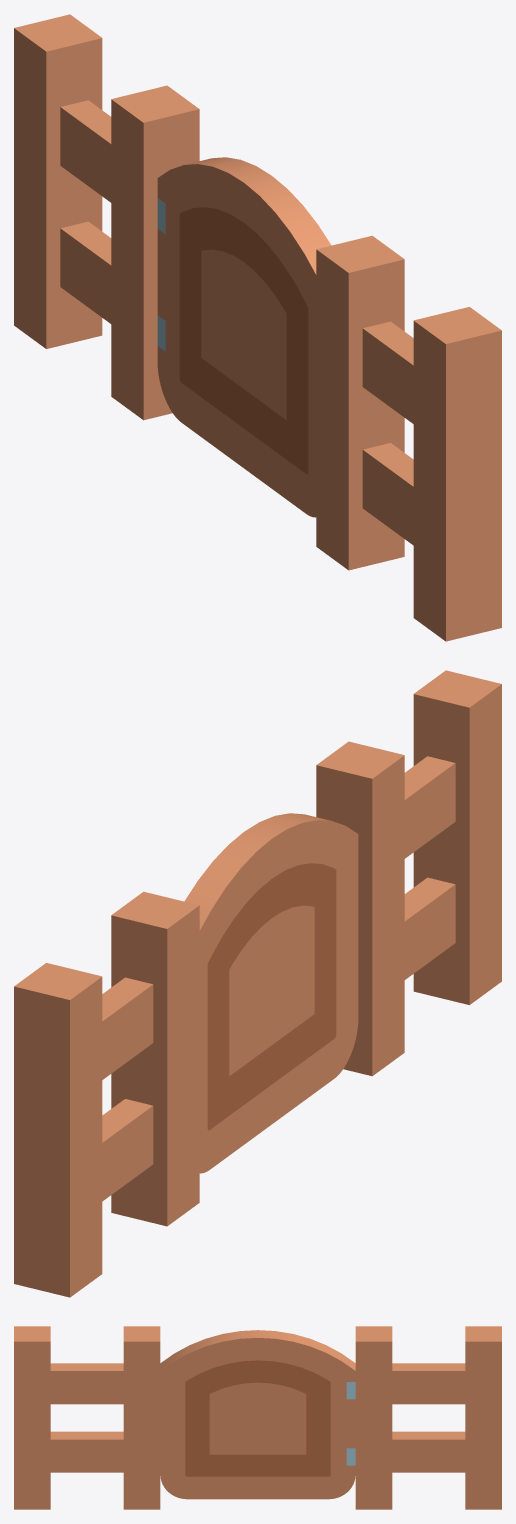
File: fenceGate.dae
3 renders of one model, top to bottom at view 1: azimuth 30°, elevation 25°; view 2: azimuth 150°, elevation 25°; view 3: azimuth 270°, elevation 25°, orthographic. The views are drawn at different scales.
Parts seen in each view (by area): view 1: fenceGate, gate; view 2: fenceGate, gate; view 3: fenceGate, gate.
Boxes of the visible parts, x1,y1,x2,y2 form: fenceGate: (14,14,501,641); gate: (157,157,331,517); fenceGate: (14,670,501,1297); gate: (184,813,358,1173); fenceGate: (14,1326,501,1509); gate: (160,1330,355,1499).
Size of the model in its own units: 0.075 by 0.38 by 1.
